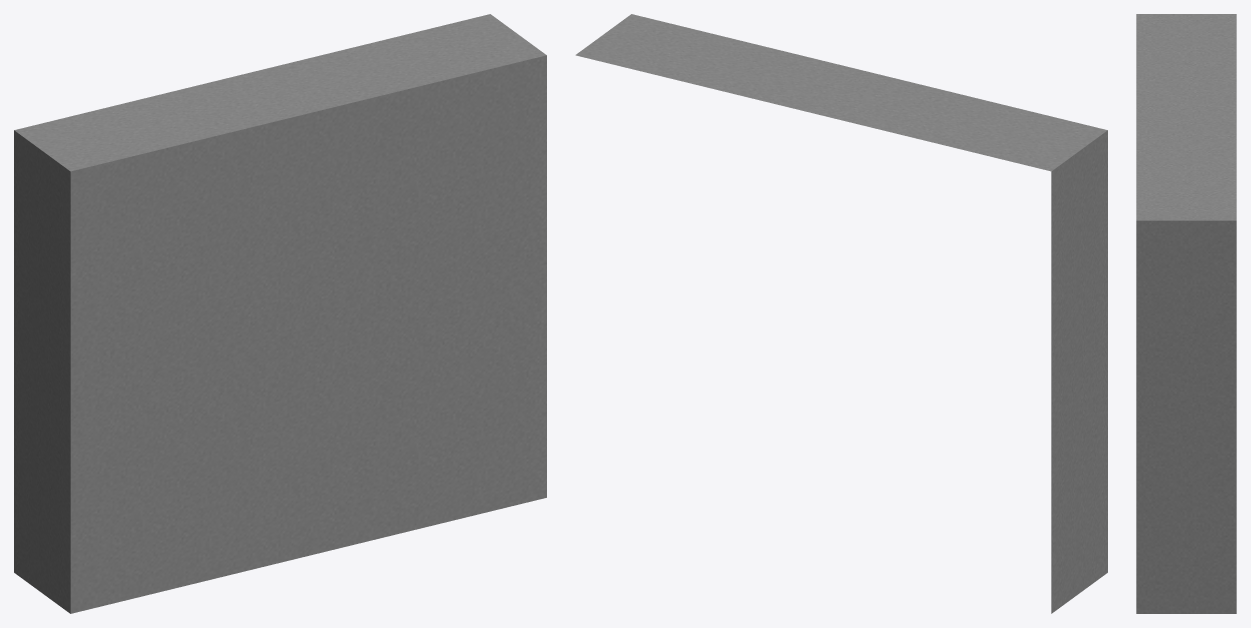
Rendered from jc-sj-721-geode.glb.
3 views of the same model, side by side, from view 1: azimuth 30°, elevation 25°; view 2: azimuth 150°, elevation 25°; view 3: azimuth 270°, elevation 25° (orthographic). The views are drawn at different scales.
Visible parts, largest first — view 1: Node; view 2: Node; view 3: Node.
Boxes of the visible parts, x1,y1,x2,y2 form: Node: (14, 14, 546, 613); Node: (575, 14, 1107, 613); Node: (1136, 14, 1236, 613).
Size of the model in its own units: 1.13 by 1 by 0.2317.
1 material, 1 textured.
